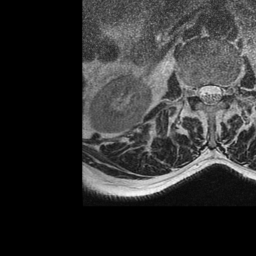CCS_normal: (206, 78, 213, 112)
LFS_normal: (223, 80, 230, 102)
LLS_normal: (213, 81, 222, 105)
RFS_normal: (190, 79, 198, 103)
RLS_normal: (198, 82, 206, 108)
